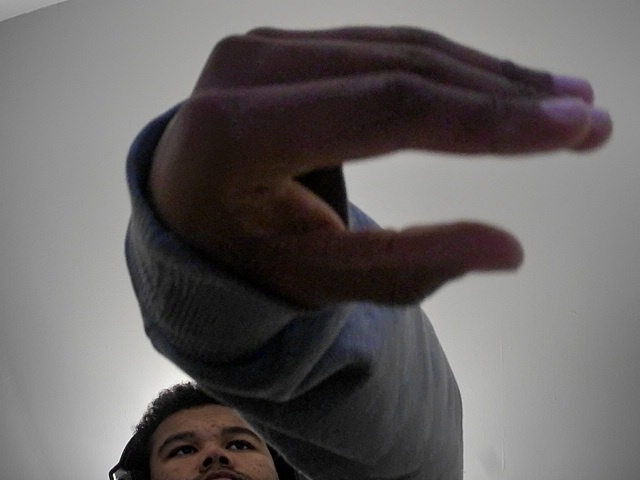No: (161, 15, 618, 326)
